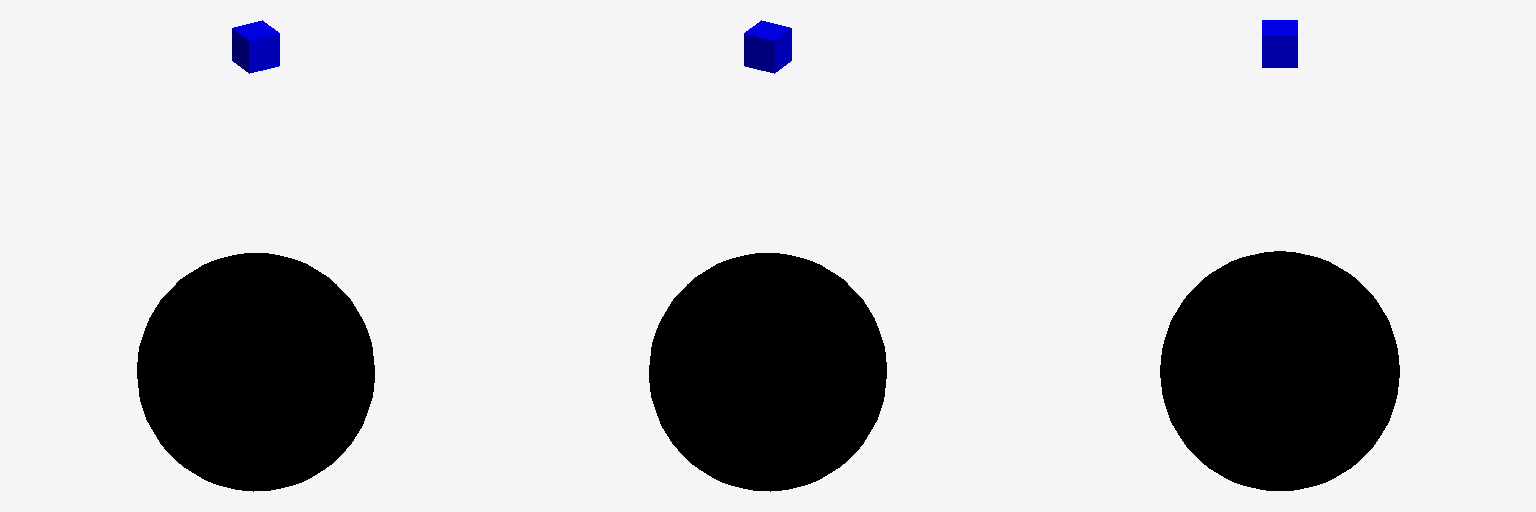
URDF robot description (ball_and_string):
<?xml version="1.0"?>
<robot name="ball_and_string">

  <!-- Ball link -->
  <link name="ball">
    <visual>
      <geometry>
        <sphere radius="0.1"/>
      </geometry>
      <material name="black">
        <color rgba="0.0 0.0 0.0 1.0"/>
      </material>
    </visual>
    <collision>
      <geometry>
        <sphere radius="0.1"/>
      </geometry>
    </collision>
    <inertial>
      <mass value="0.1"/>
      <inertia ixx="0.000001" ixy="0.0" ixz="0.0" iyy="0.000001" iyz="0.0" izz="0.000001"/>
    </inertial>
  </link>

  <!-- Anchor link -->
  <link name="anchor">
    <visual>
      <geometry>
        <box size="0.03 0.03 0.03"/>
      </geometry>
      <material name="blue">
        <color rgba="0.0 0.0 1.0 1.0"/>
      </material>
    </visual>
    <inertial>
      <mass value="0.001"/>
      <inertia ixx="0.000001" ixy="0.0" ixz="0.0" iyy="0.000001" iyz="0.0" izz="0.000001"/>
    </inertial>
  </link>

  <!-- Sliding joint -->
  <joint name="ball_to_base" type="prismatic">
    <parent link="ball"/>
    <child link="anchor"/>
    <!-- default string length -->
    <origin xyz="0 0 0.3" rpy="0 0 0"/>
    <!-- maximum string length -->
    <limit lower="0.0" upper="0.4" effort="0.0"/>
    <axis xyz="0 0 1"/>
  </joint>

</robot>

--- What the picture shows (computed from the rendered views, not written in the file) ---
3 views of the same robot in one strip: view 1: azimuth 30°, elevation 25°; view 2: azimuth 150°, elevation 25°; view 3: azimuth 270°, elevation 25° (orthographic).
Model ball_and_string with 2 links and 1 joints (1 prismatic), rooted at ball, posed all joints at 0.
Visible links, largest first — view 1: ball, anchor; view 2: ball, anchor; view 3: ball, anchor.
Boxes of the visible links, x1,y1,x2,y2 form: ball: (137, 253, 374, 491); anchor: (232, 20, 279, 73); ball: (649, 253, 886, 491); anchor: (744, 20, 791, 73); ball: (1160, 251, 1399, 490); anchor: (1262, 20, 1297, 67).
Size in the robot's own frame: 0.2 by 0.2 by 0.415 metres.
Geometry: primitives only (box / cylinder / sphere), no mesh files.